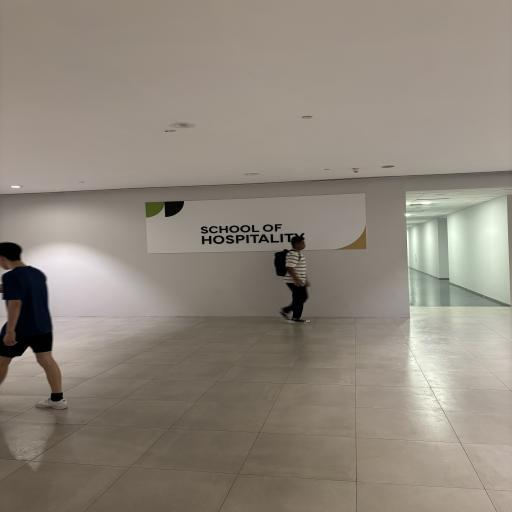person_left: (0, 233, 69, 418)
person_right: (271, 228, 323, 328)
